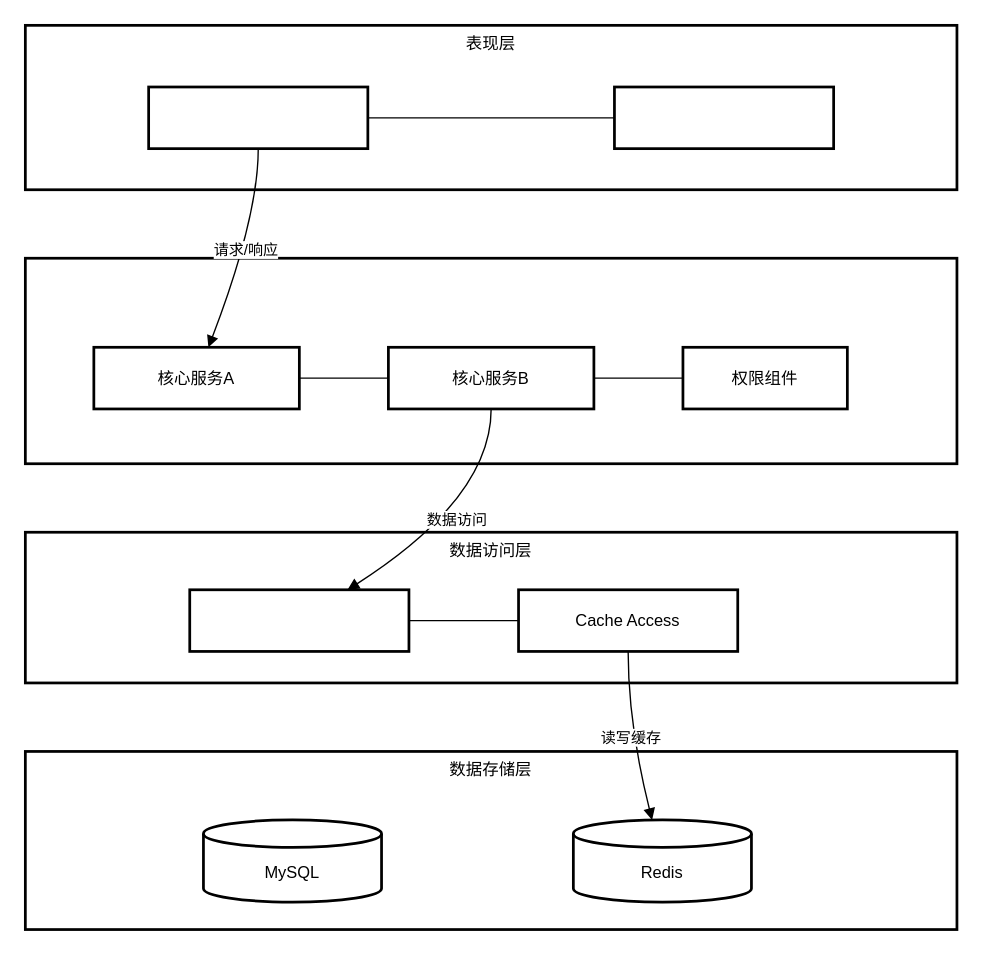
Image size: 981x954. Some labels were removed from this diagram. Each missing label, with the box of its shape:
Repository: (188, 588, 410, 652)
Web端: (147, 85, 369, 149)
业务逻辑层: (23, 256, 958, 464)
小程序端: (612, 85, 834, 149)
